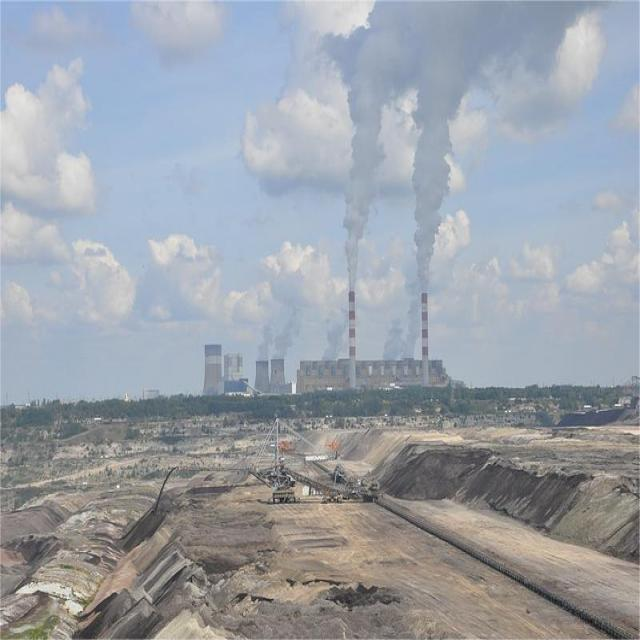Smoke: (325, 0, 585, 291)
